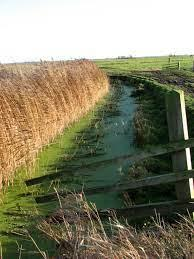Blocked drain: (0, 13, 194, 259)
